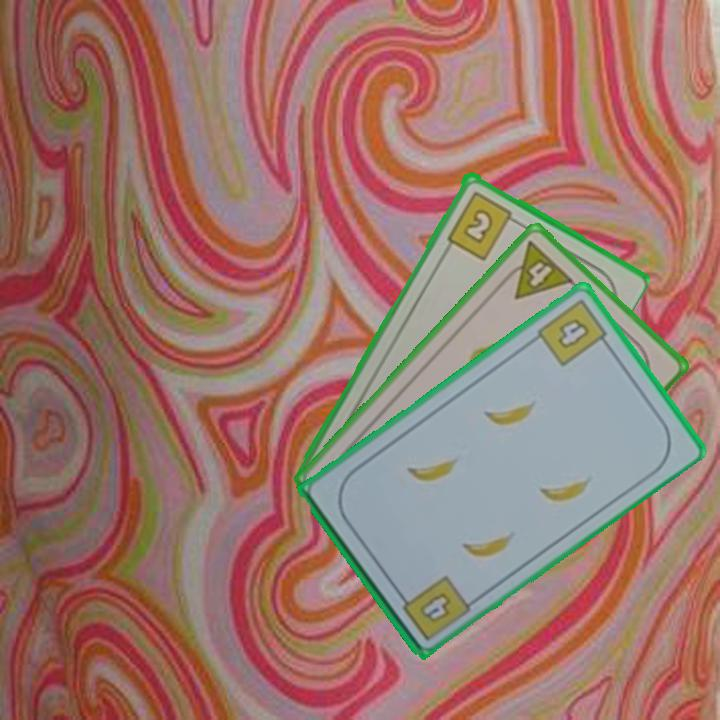2b: (443, 187, 522, 263)
4b: (533, 295, 614, 370), (393, 571, 471, 644)
4p: (496, 236, 577, 302)
